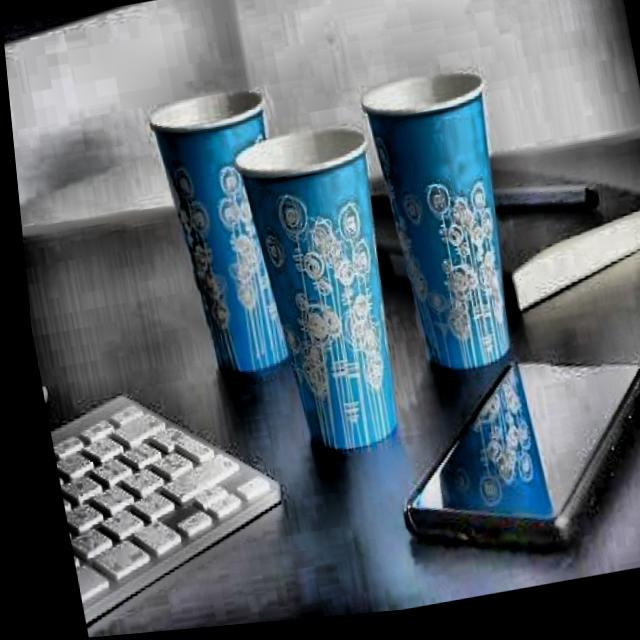Cup: (223, 119, 410, 477), (349, 60, 522, 390), (135, 68, 307, 394)
